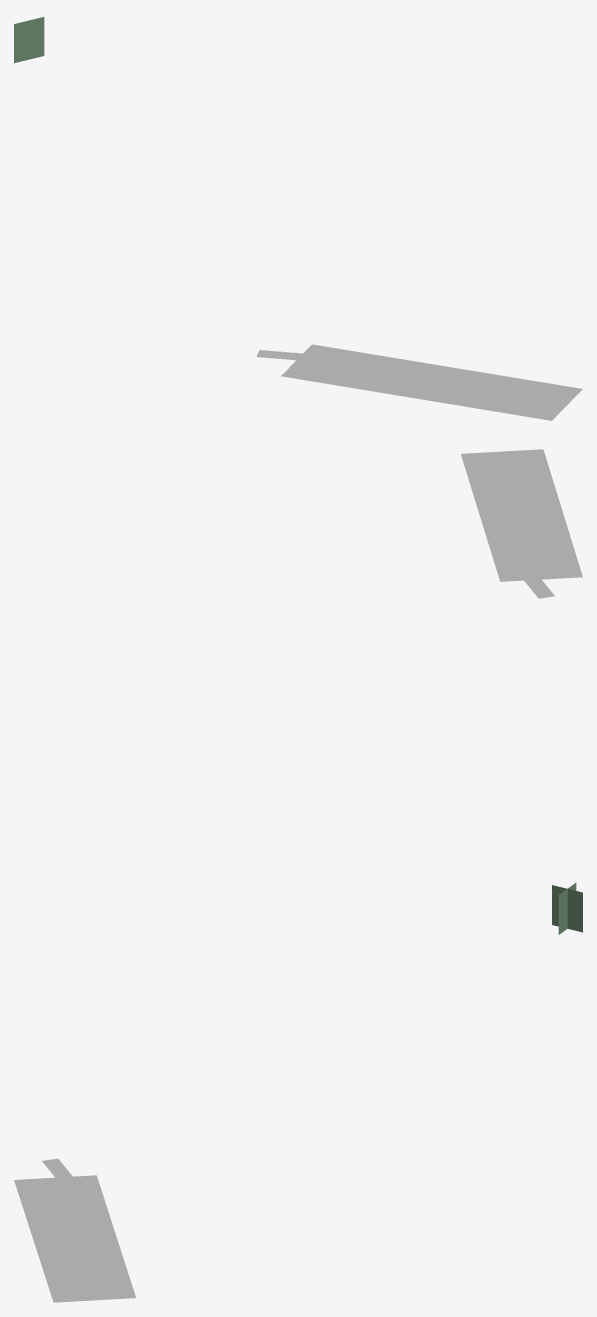
3 renders of one model, top to bottom at view 1: azimuth 30°, elevation 25°; view 2: azimuth 150°, elevation 25°; view 3: azimuth 330°, elevation 25°, orthographic. The views are drawn at different scales.
Bounding box in the file's own units: 20.87 × 3.7 × 89.4.
